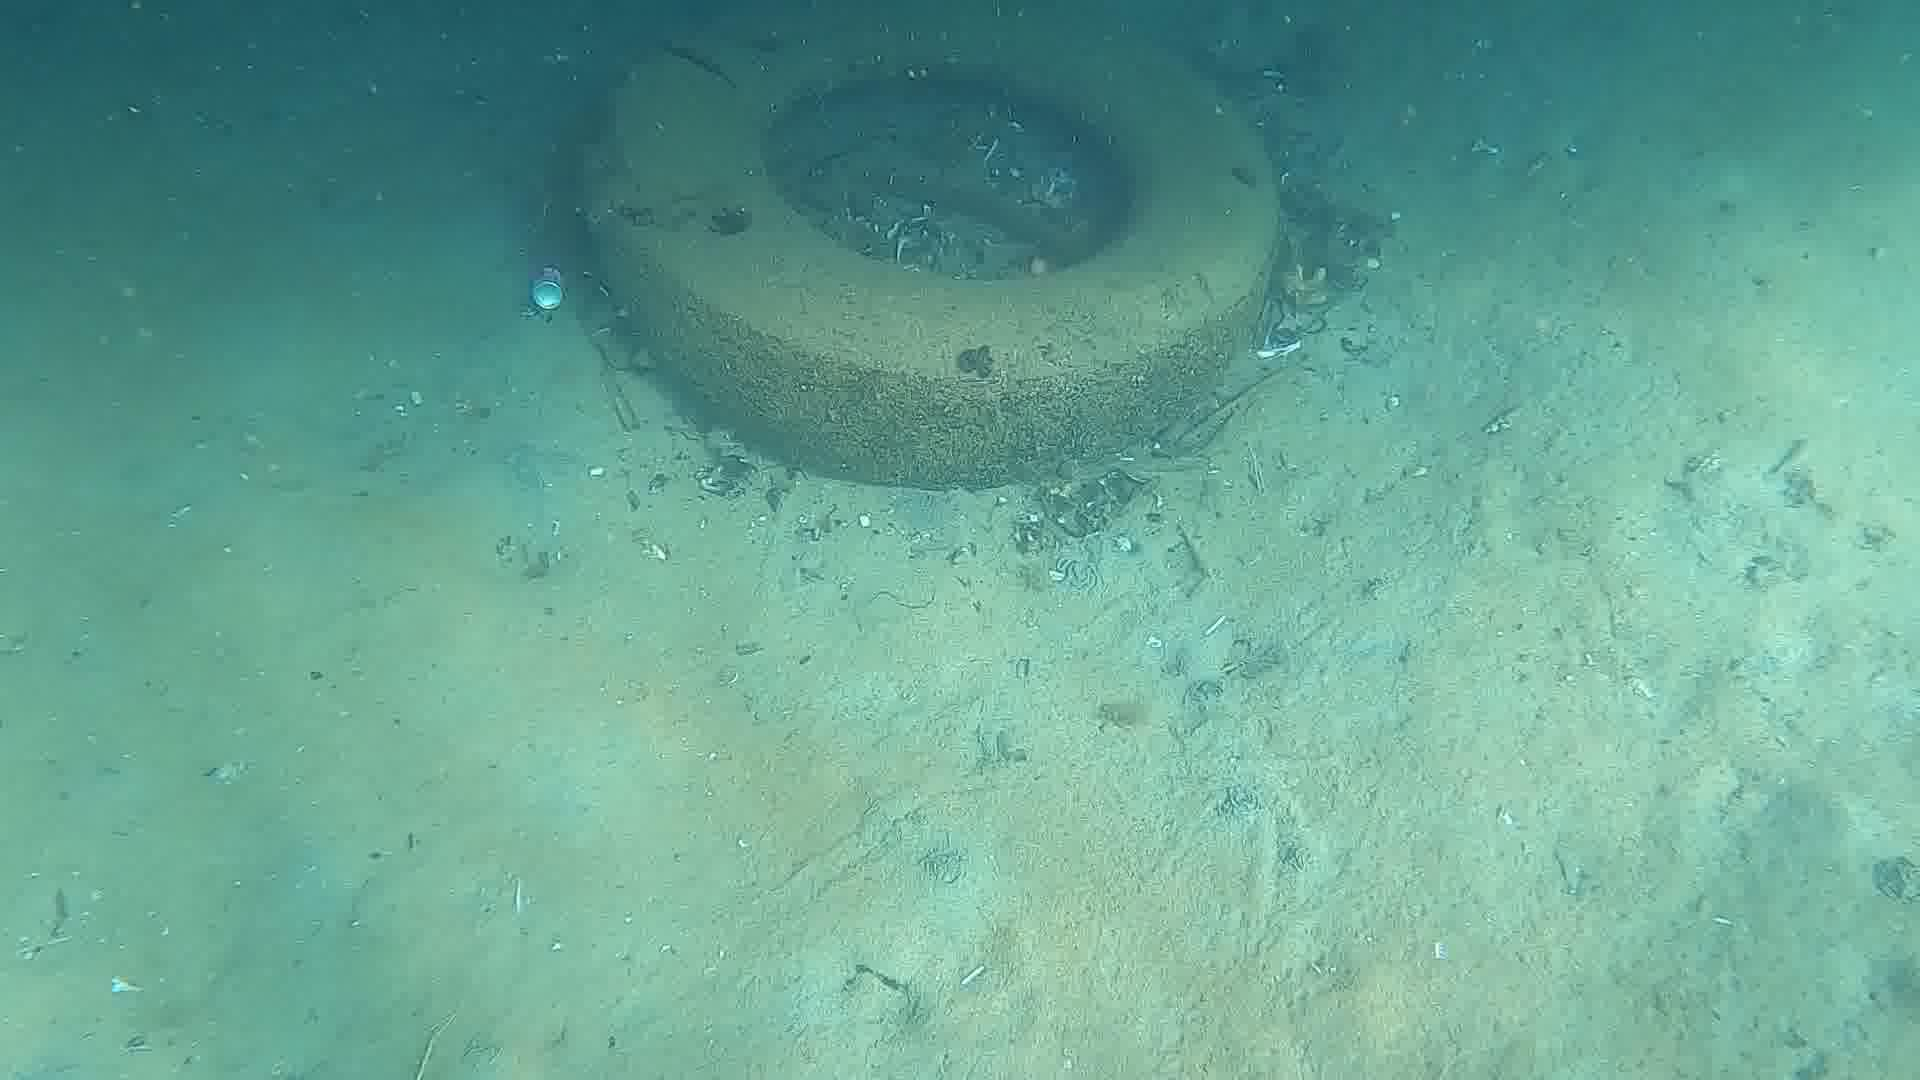tire: (560, 0, 1296, 496)
